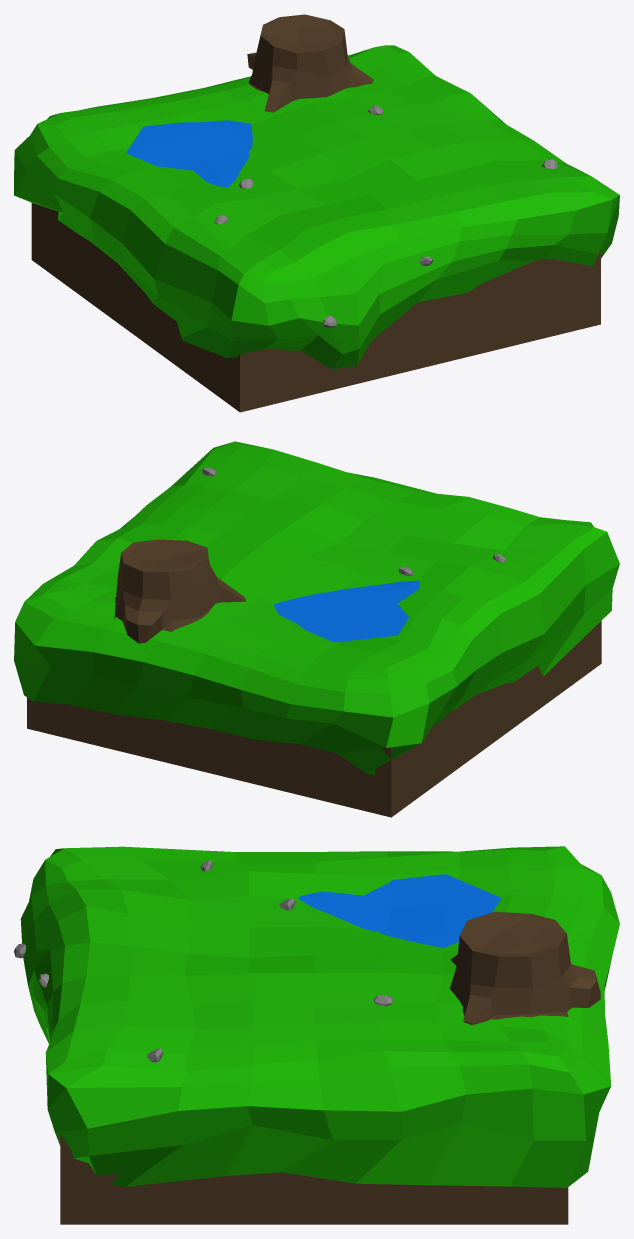
File: grassblockBigStumpWater.fbx
3 views of the same model, one above another, from view 1: azimuth 30°, elevation 25°; view 2: azimuth 150°, elevation 25°; view 3: azimuth 270°, elevation 25° (orthographic). The views are drawn at different scales.
Parts seen in each view (by area): view 1: 3x3 grass.003; view 2: 3x3 grass.003; view 3: 3x3 grass.003.
Part boxes in pixels (x1,y1,x2,y2): 3x3 grass.003: [14, 14, 619, 412]; 3x3 grass.003: [14, 441, 619, 817]; 3x3 grass.003: [20, 846, 619, 1224].
Size of the model in its own units: 344 by 146 by 358.
